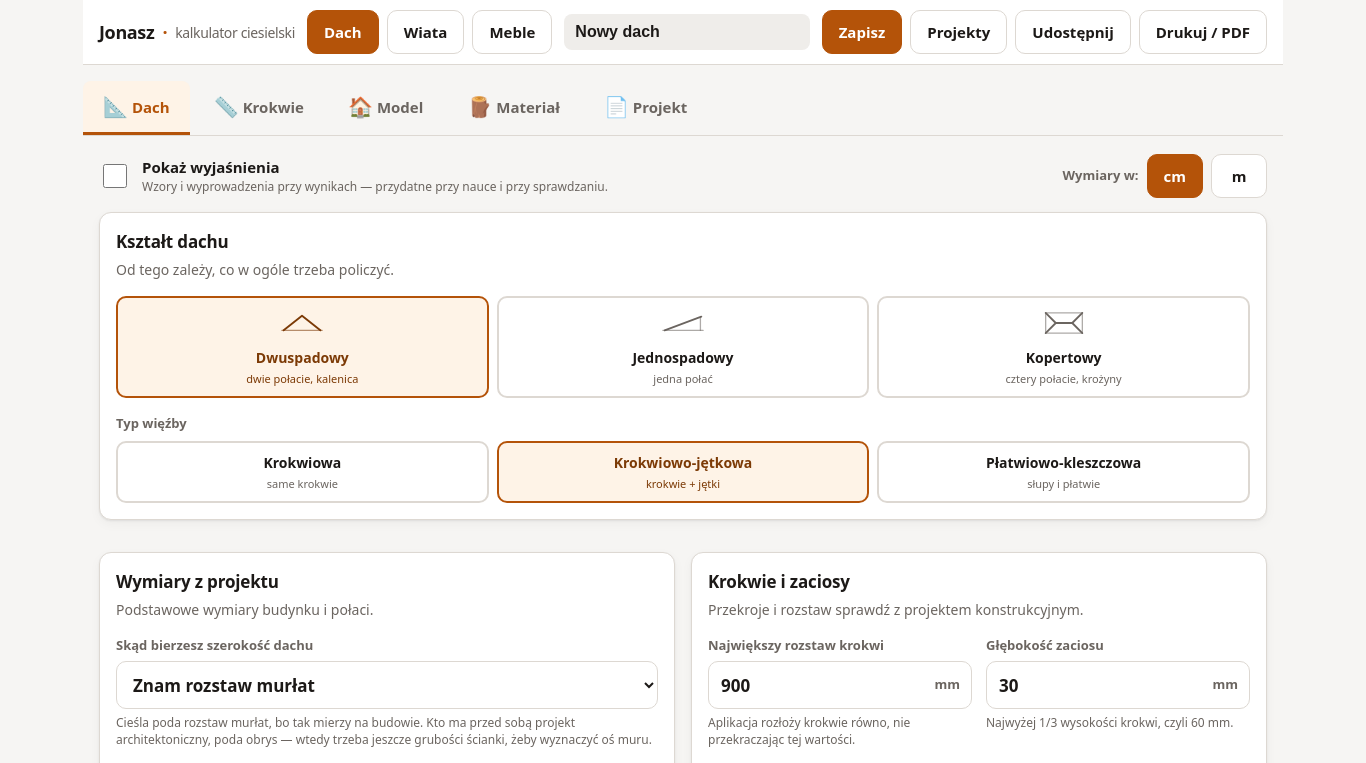
Test: wiaty, zadaszenia i pergole › pergola przestawia się na szczebliny i chowa rynny
Click the button "Wiata" at (426, 32), box [387, 10, 464, 54]
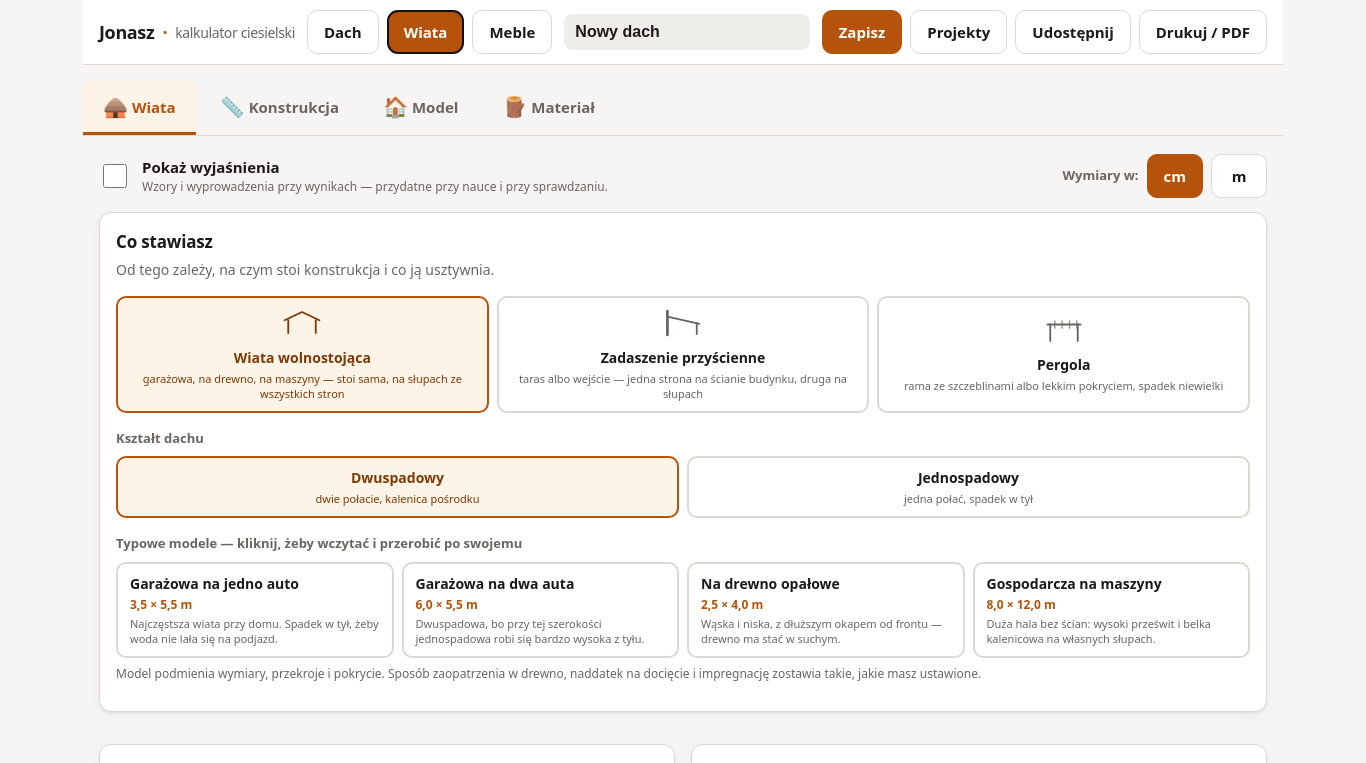
Click the button "Pergola" at (1064, 354), box [877, 296, 1250, 412]
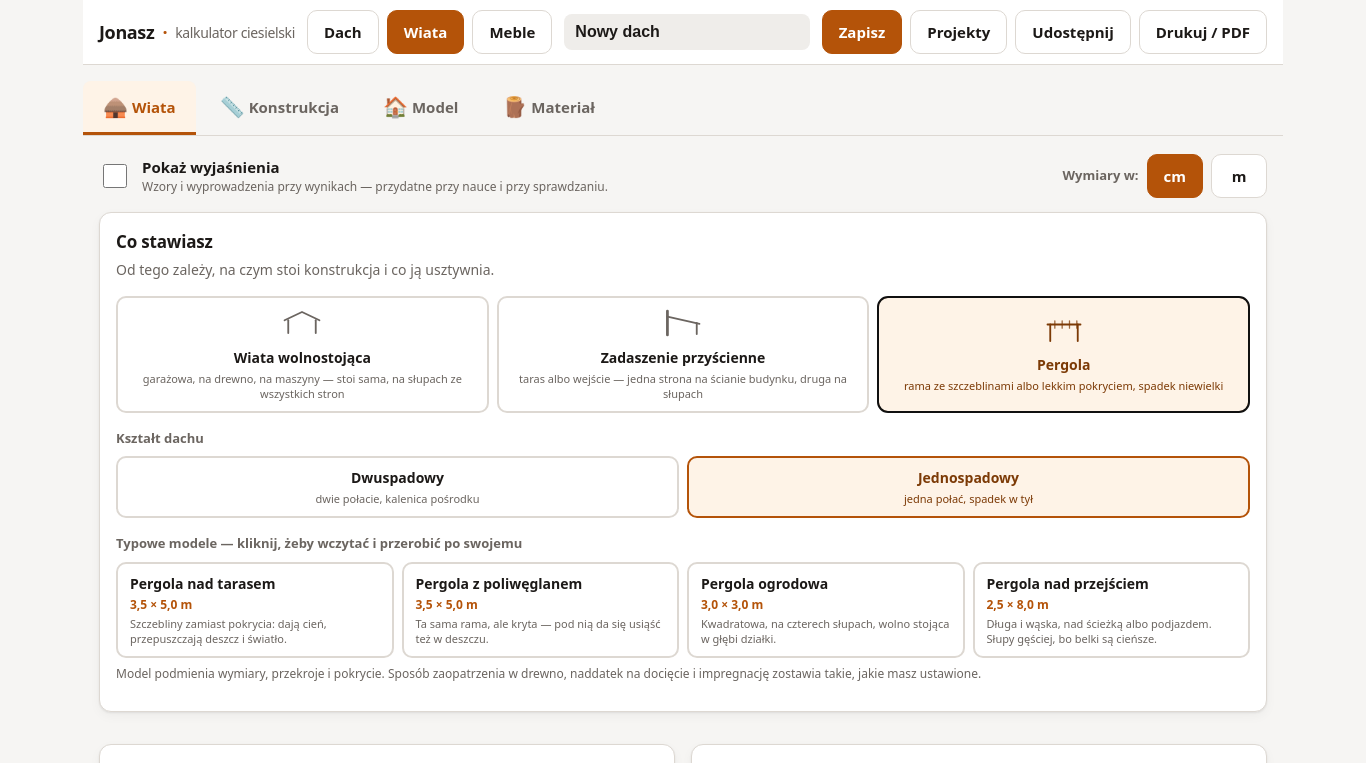
Click the tab "🪵 Materiał" at (549, 108), box [482, 81, 615, 135]
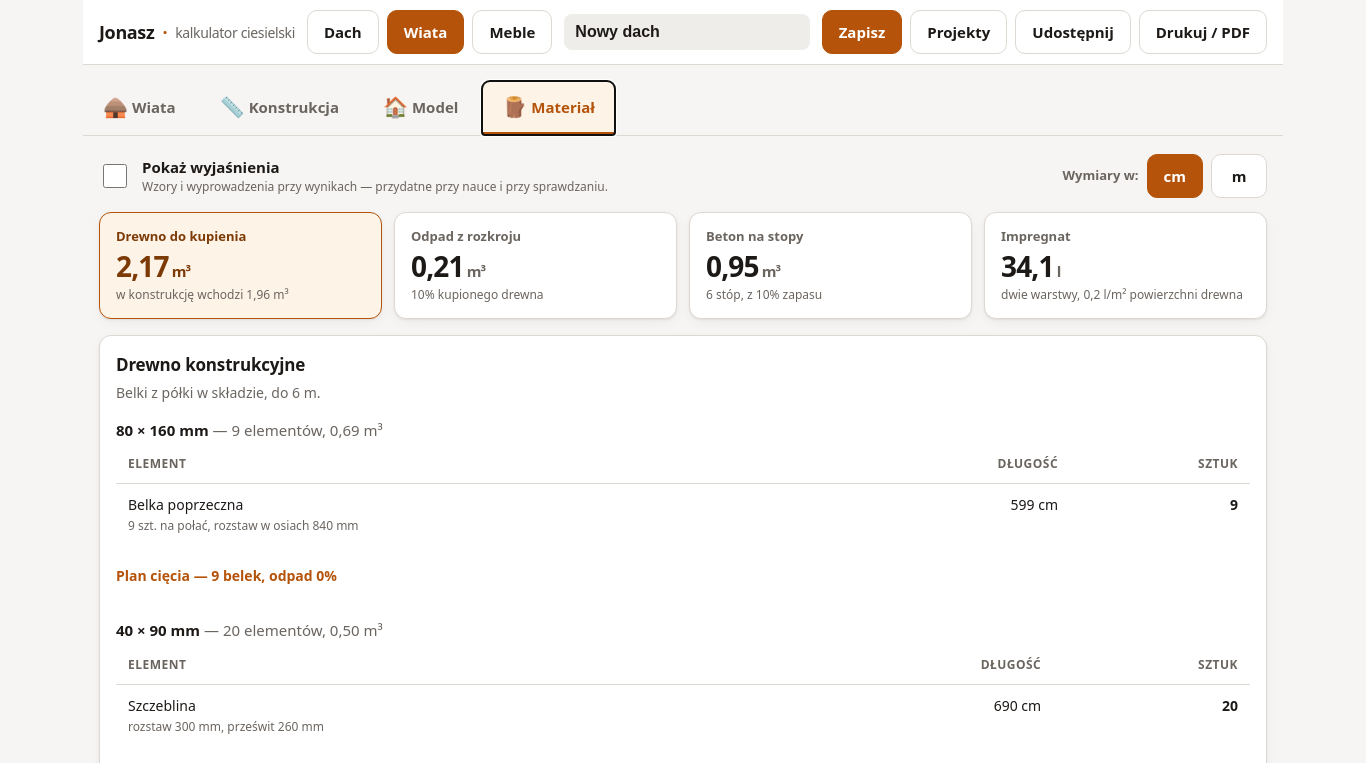
expect the text "Szczeblina rozstaw 300 mm, prześwit 260 mm" is shown: met, box [116, 684, 793, 746]
